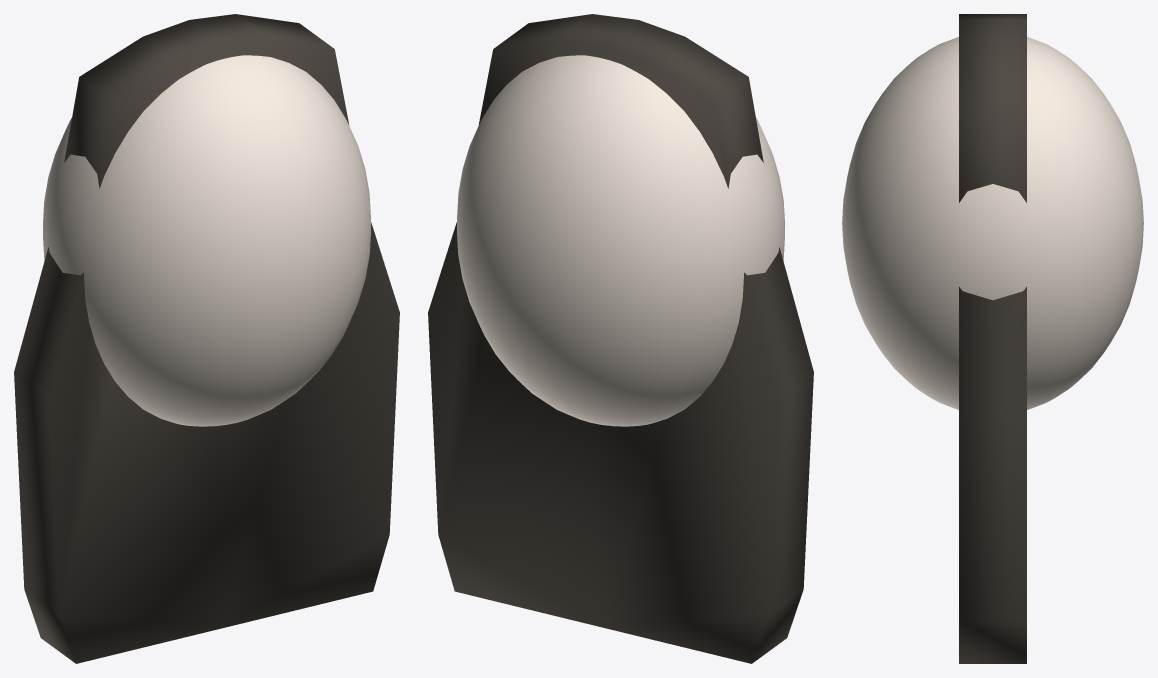
File: hair_long_bold.glb
3 views of the same model, side by side, from view 1: azimuth 30°, elevation 25°; view 2: azimuth 150°, elevation 25°; view 3: azimuth 270°, elevation 25° (orthographic). The views are drawn at different scales.
Parts seen in each view (by area): view 1: Hair_long_bold, Head; view 2: Hair_long_bold, Head; view 3: Head, Hair_long_bold.
Part boxes in pixels (bbox=[...]): Hair_long_bold: bbox=[14, 14, 399, 663]; Head: bbox=[42, 55, 371, 426]; Hair_long_bold: bbox=[428, 14, 813, 663]; Head: bbox=[456, 55, 785, 426]; Head: bbox=[842, 37, 1143, 409]; Hair_long_bold: bbox=[959, 14, 1026, 663].
Bounding box in the file's own units: 2.06 × 3.26 × 1.6.
